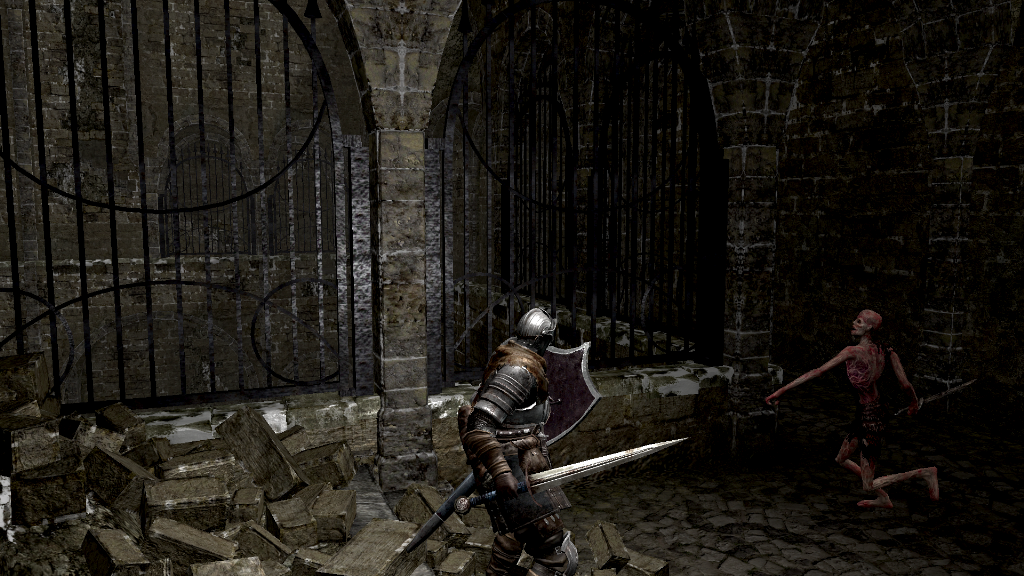hollow: (764, 309, 940, 509)
player: (457, 307, 690, 576)
